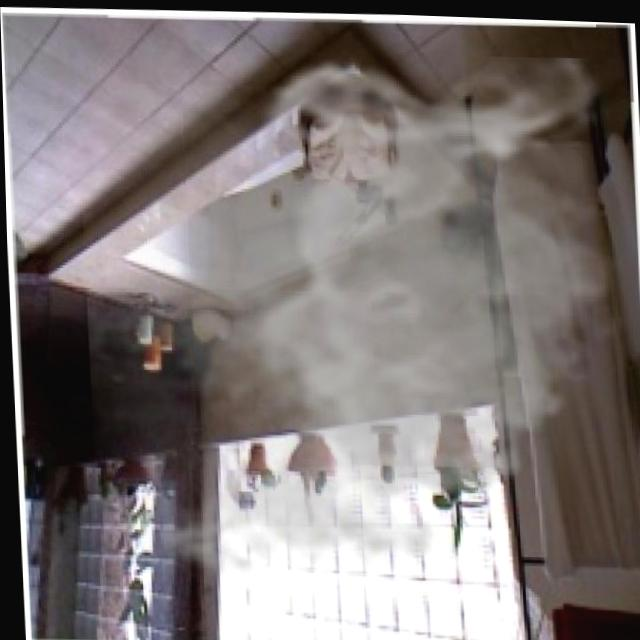Smoke: (73, 46, 640, 593)
